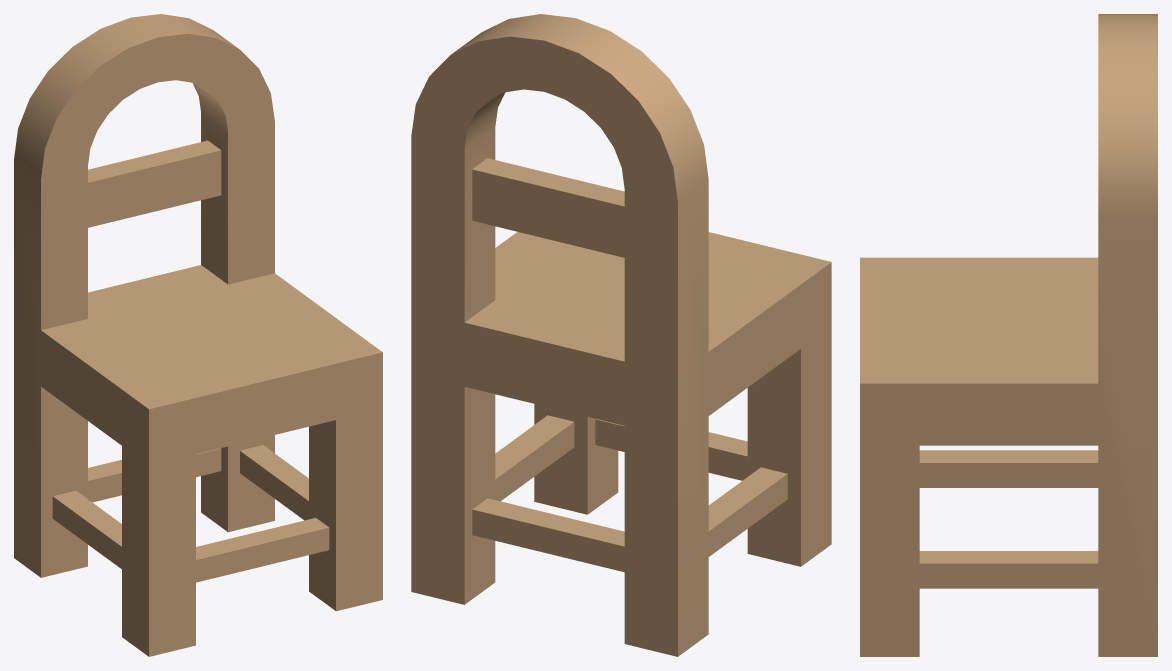
Rendered from chair-rounded.glb.
3 renders of one model, left to right at view 1: azimuth 30°, elevation 25°; view 2: azimuth 150°, elevation 25°; view 3: azimuth 270°, elevation 25°, orthographic. The views are drawn at different scales.
Parts seen in each view (by area): view 1: chair-rounded; view 2: chair-rounded; view 3: chair-rounded.
Part boxes in pixels (x1=…): chair-rounded: x1=14, y1=14, x2=382, y2=656; chair-rounded: x1=411, y1=14, x2=831, y2=656; chair-rounded: x1=860, y1=14, x2=1157, y2=656.
Bounding box in the file's own units: 0.43 × 0.9 × 0.43.
